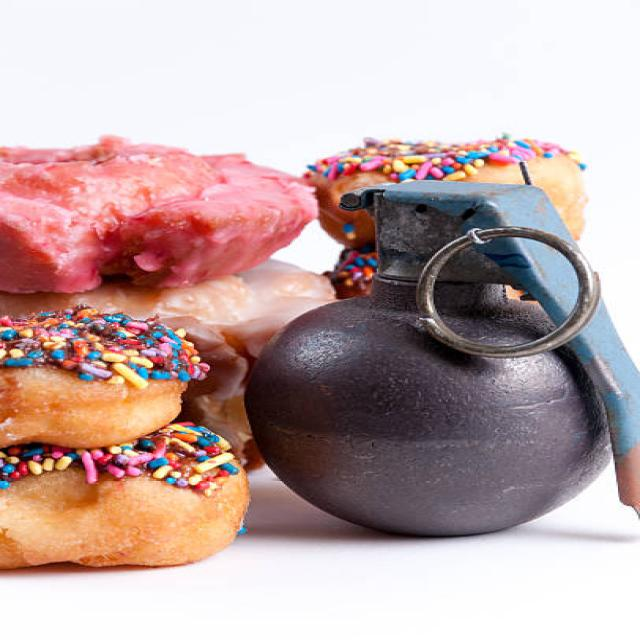grenade: (231, 179, 640, 545)
